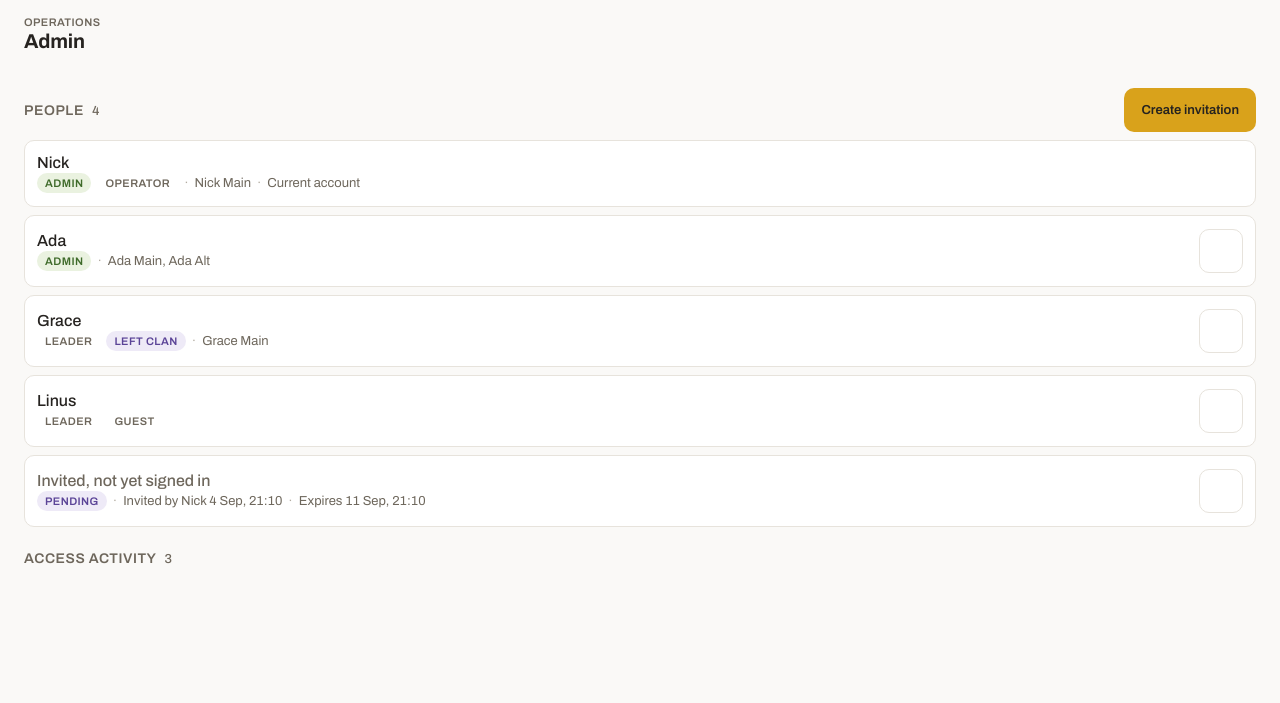
Test: AdminPage › describes link events in the access log
This screenshot has width=1280, height=703.
Click the heading "Access activity 3": x=90, y=558 [24,551,1256,566]
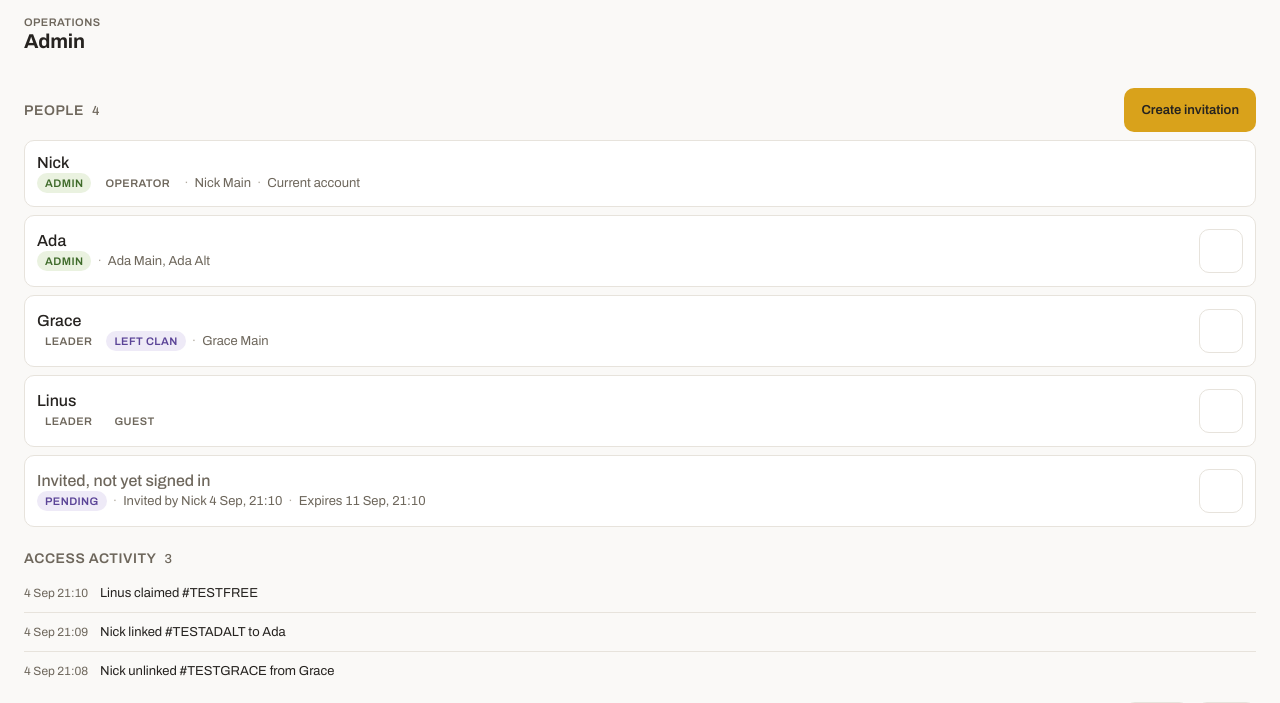
Check: the text "Linus claimed #TESTFREE" is shown, box [100,586,258,600]
Check: the text "Nick linked #TESTADALT to Ada" is shown, box [100,625,286,639]
Check: the text "Nick unlinked #TESTGRACE from Grace" is shown, box [100,664,334,678]
